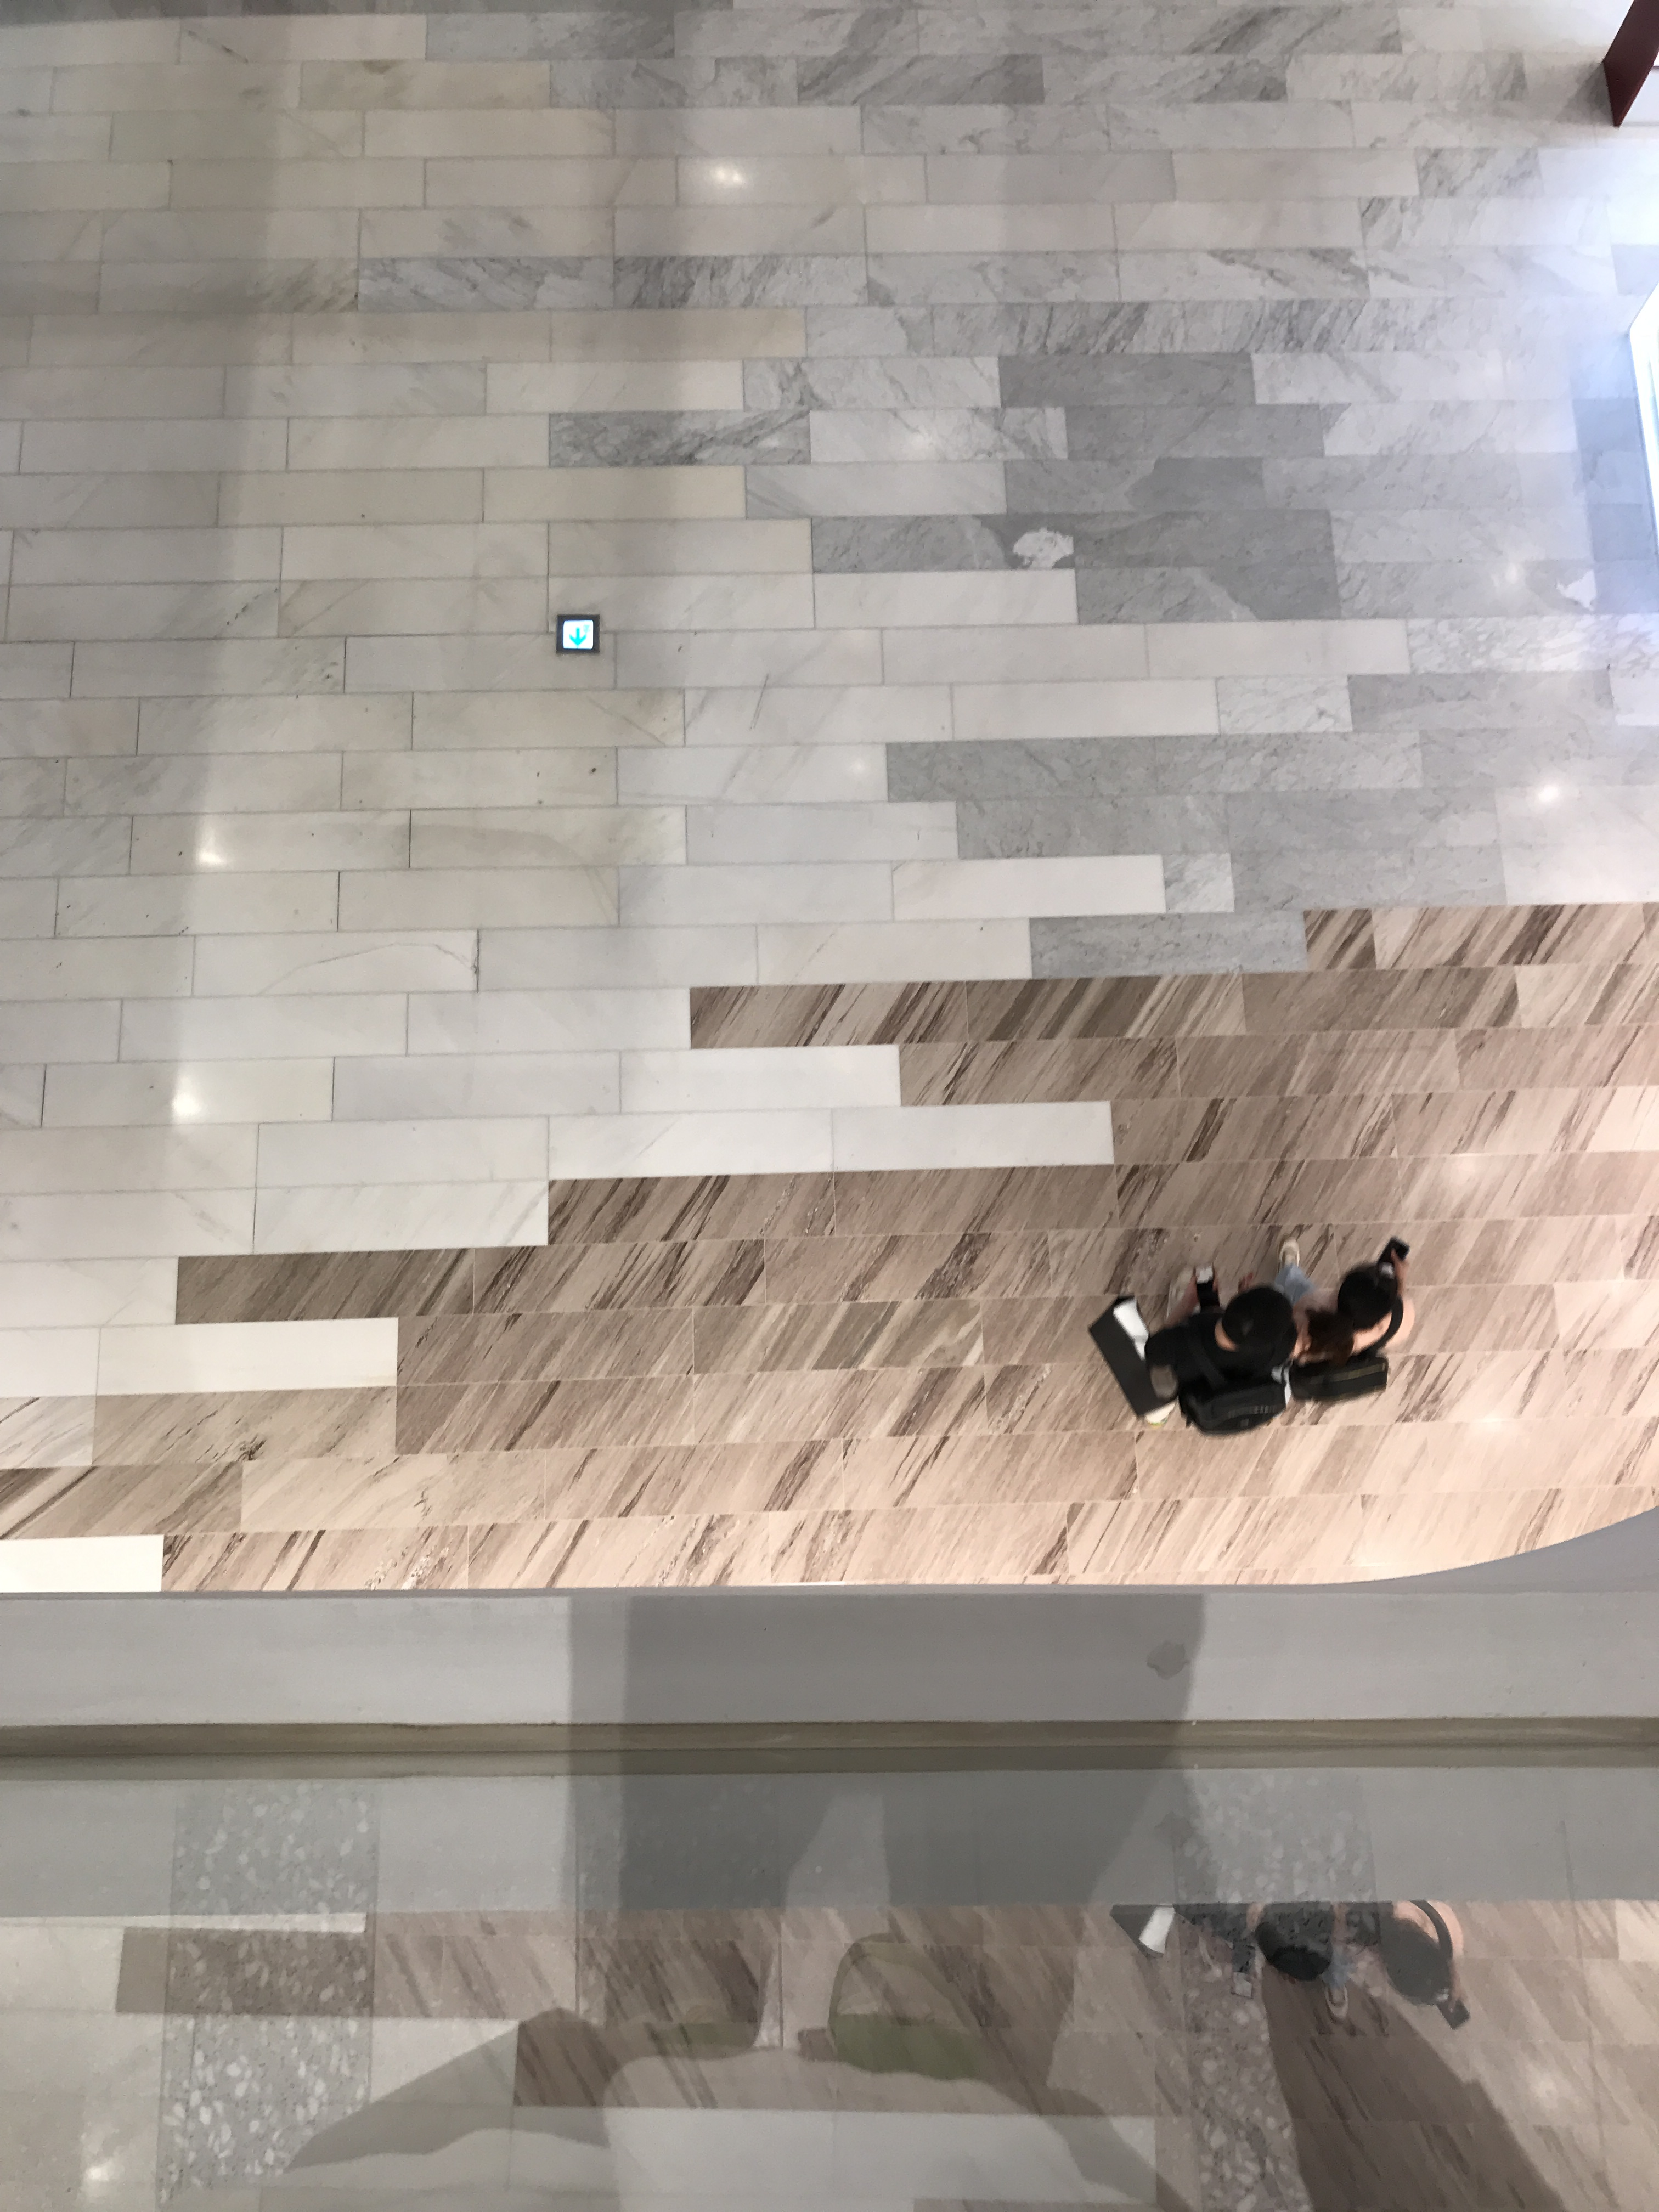person: (1088, 1263, 1291, 1447), (1262, 1235, 1420, 1408)
